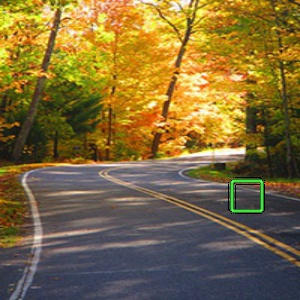square: (226, 175, 268, 216)
